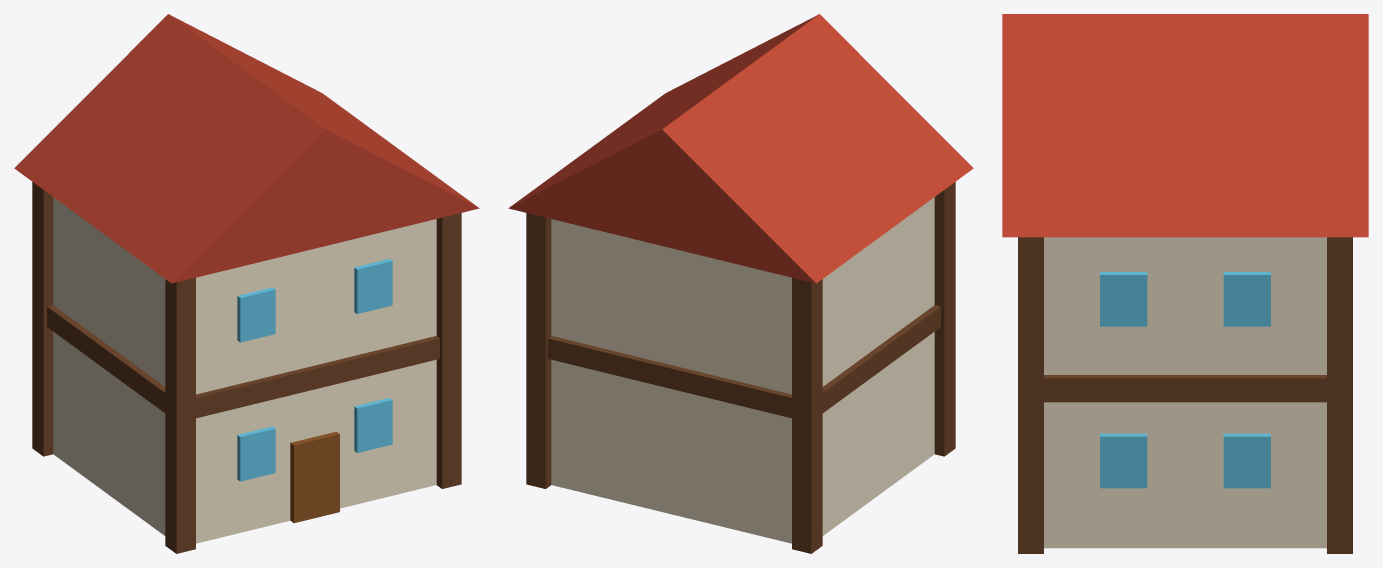
Rendered from house_red.glb.
3 renders of one model, left to right at view 1: azimuth 30°, elevation 25°; view 2: azimuth 150°, elevation 25°; view 3: azimuth 270°, elevation 25°, orthographic. The views are drawn at different scales.
Parts seen in each view (by area): view 1: beams; view 2: beams; view 3: beams.
Boxes of the visible parts, bbox=[...] form: beams: bbox=[14, 14, 479, 553]; beams: bbox=[508, 14, 973, 553]; beams: bbox=[1002, 14, 1368, 553].
Size of the model in its own units: 1.74 by 2.13 by 1.54.
